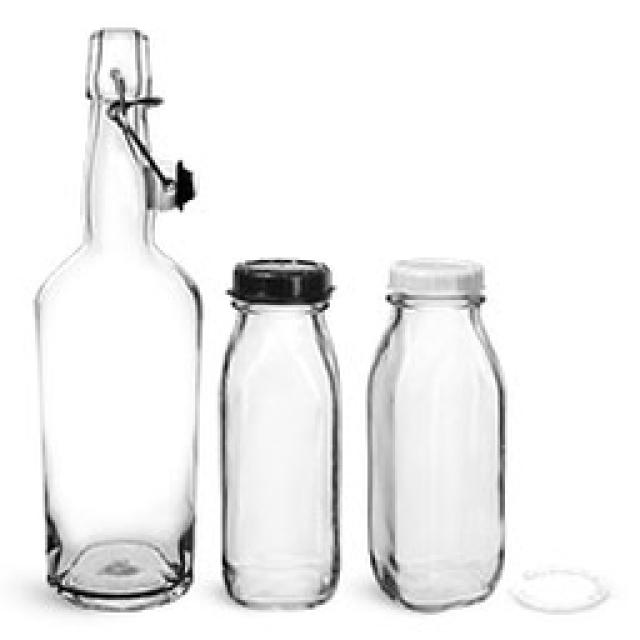glass_beverage_bottles: (30, 27, 200, 608)
